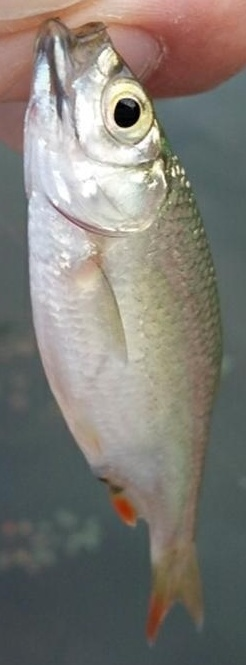Scardinius erythrophthalmus: (20, 20, 226, 645)
